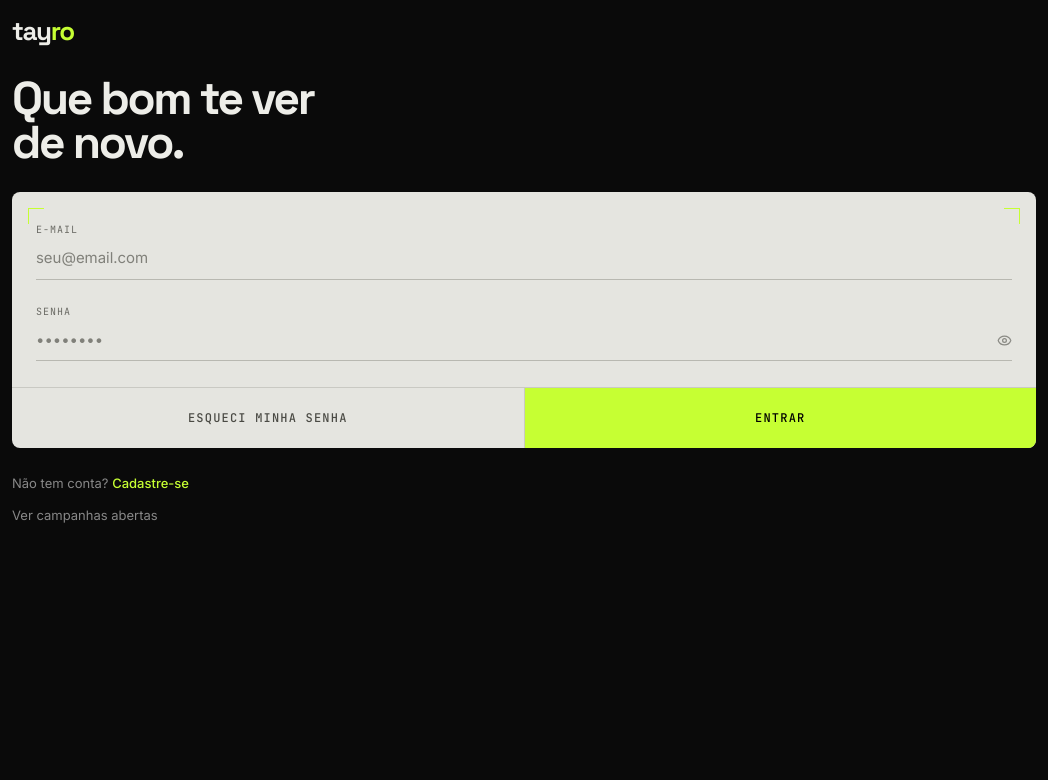
Test: LoginPage › 429 fala em tentativas, não em conexão
Type "a@b.com" into the field labelled "E-mail" at (524, 259), box [36,247,1012,270]
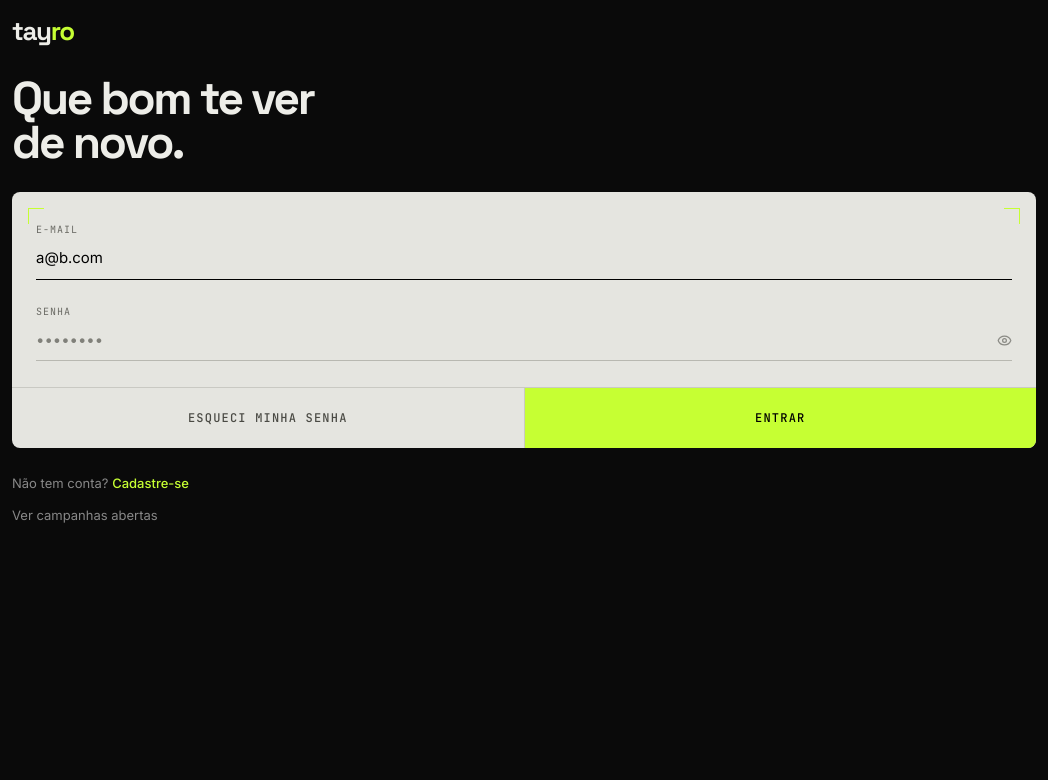
Type "segredo123" into the password field labelled "Senha" at (512, 340), box [36,329,987,351]
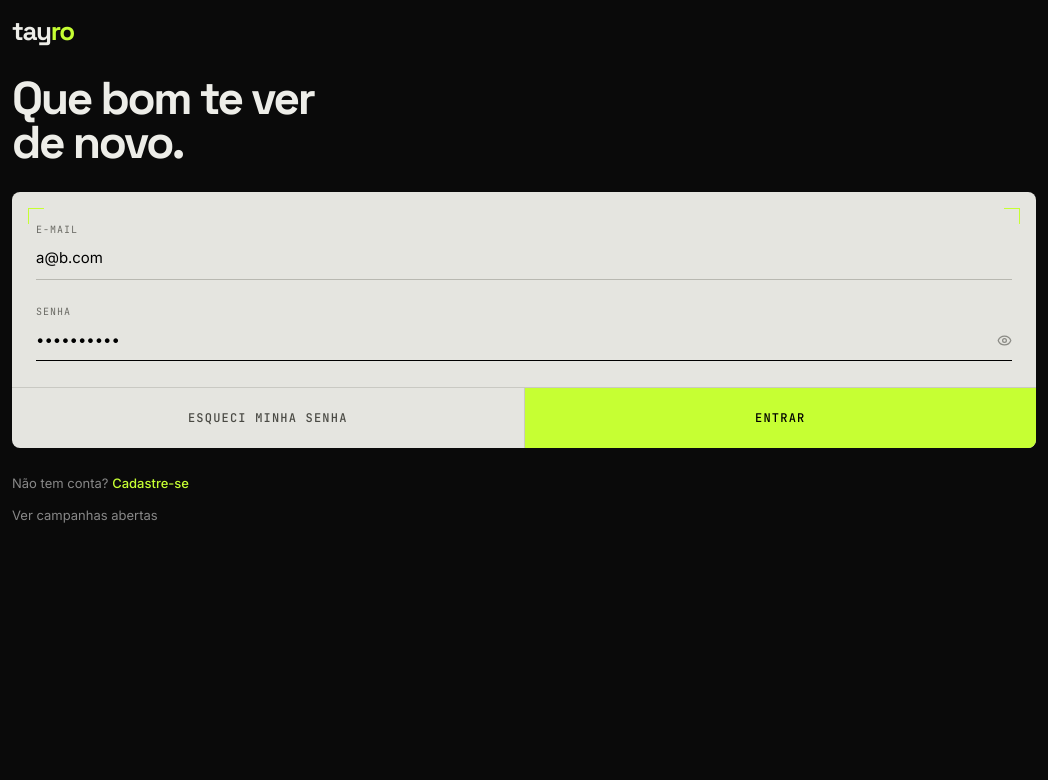
Click the button "Entrar" at (780, 418), box [524,388,1036,448]
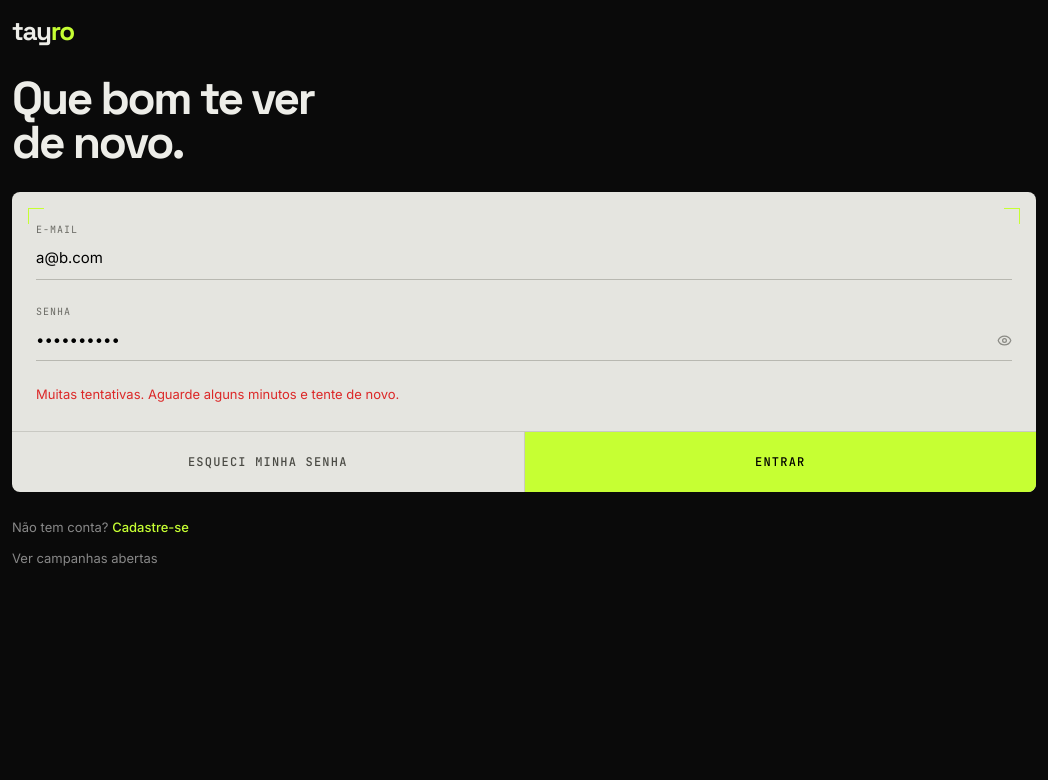
expect the text "Muitas tentativas. Aguarde alguns minutos e tente de novo." is shown: met, box [36,386,399,402]
